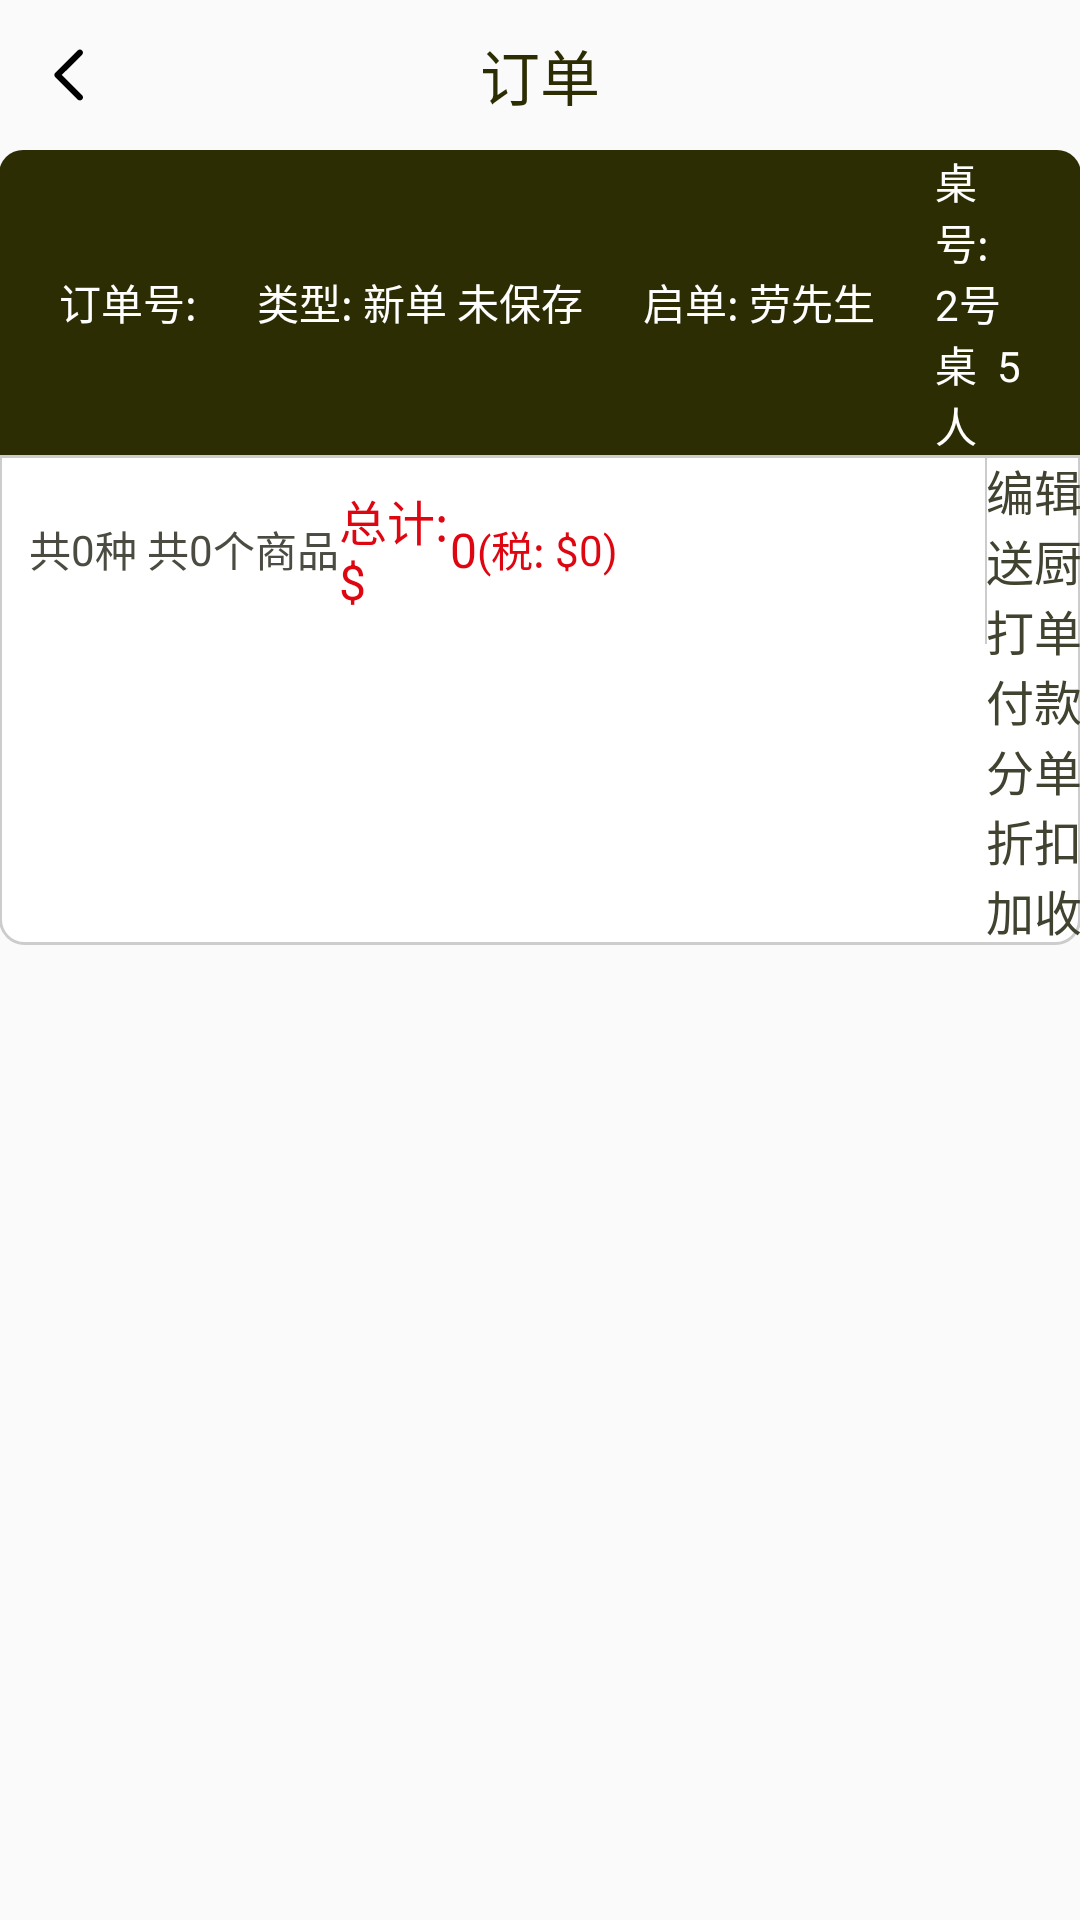

Point at icon controls on the screen. Image size 1080×1920, points as (x=x, y=y).
back: (x=68, y=75)
